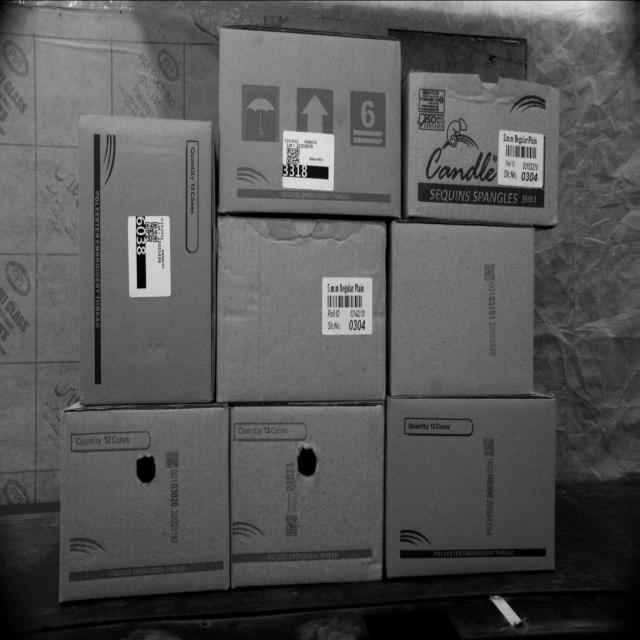cardboxes: (76, 112, 215, 406), (221, 21, 403, 215), (58, 411, 232, 604), (215, 211, 388, 404), (386, 390, 556, 575), (230, 401, 384, 586), (387, 217, 535, 396), (407, 69, 562, 228)
